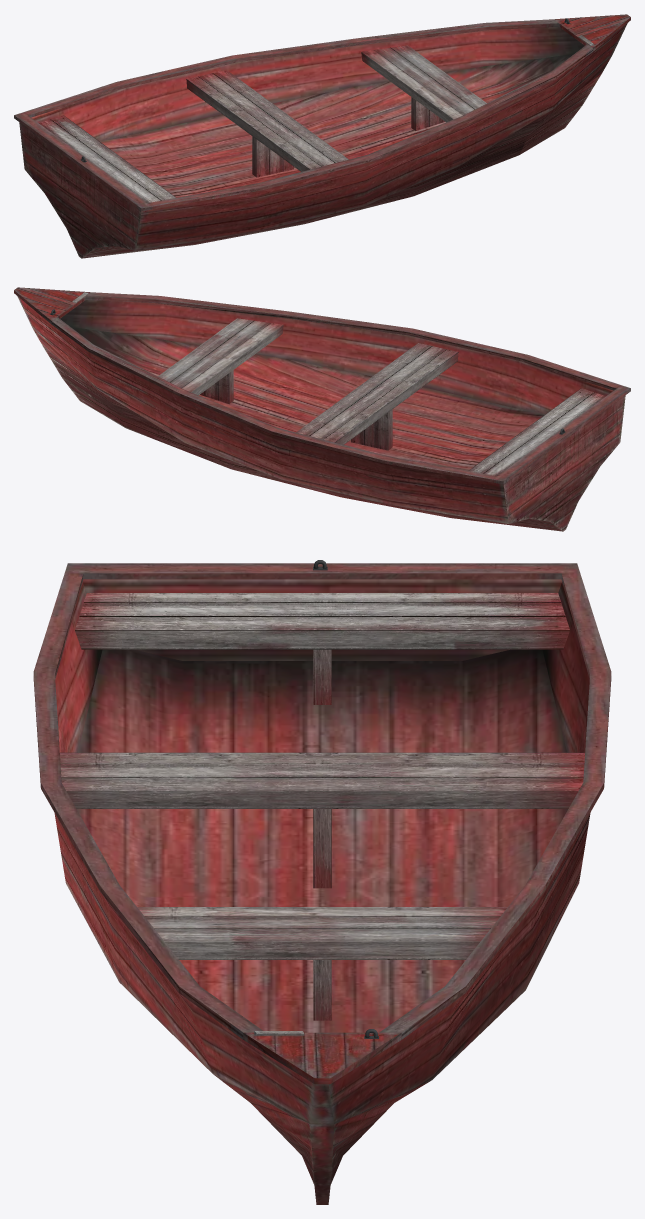
File: boat.glb
The picture shows the model from 3 angles, top to bottom: view 1: azimuth 30°, elevation 25°; view 2: azimuth 150°, elevation 25°; view 3: azimuth 270°, elevation 25°; orthographic projection. The views are drawn at different scales.
Visible parts, largest first — view 1: Object_4, Object_2, Object_3; view 2: Object_4, Object_2, Object_3; view 3: Object_4, Object_2, Object_3.
Boxes of the visible parts, left/top/right/bottom form: Object_4: left=19, top=23, right=627, bottom=258; Object_2: left=39, top=18, right=593, bottom=202; Object_3: left=14, top=14, right=630, bottom=211; Object_4: left=17, top=296, right=625, bottom=531; Object_2: left=50, top=292, right=605, bottom=475; Object_3: left=14, top=287, right=630, bottom=484; Object_4: left=54, top=579, right=590, bottom=1204; Object_2: left=60, top=560, right=584, bottom=1038; Object_3: left=33, top=563, right=611, bottom=1084.
Size of the model in its own units: 4.18 by 0.905 by 1.9.
3 materials, 3 textured.
